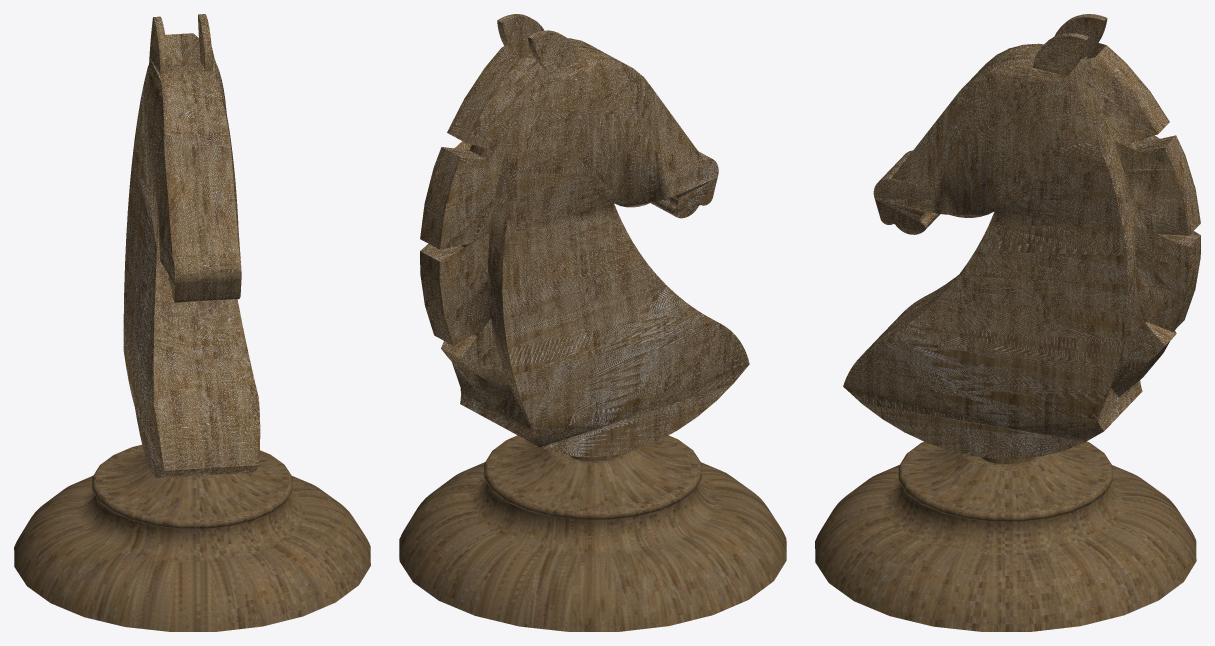
File: knight.fbx
3 views of the same model, side by side, from view 1: azimuth 30°, elevation 25°; view 2: azimuth 150°, elevation 25°; view 3: azimuth 270°, elevation 25° (orthographic). The views are drawn at different scales.
Parts seen in each view (by area): view 1: Group1; view 2: Group1; view 3: Group1.
Boxes of the visible parts, <box> form: Group1: <box>14,14,370,631</box>; Group1: <box>399,14,786,631</box>; Group1: <box>815,14,1200,631</box>.
Size of the model in its own units: 679 by 1058 by 686.
